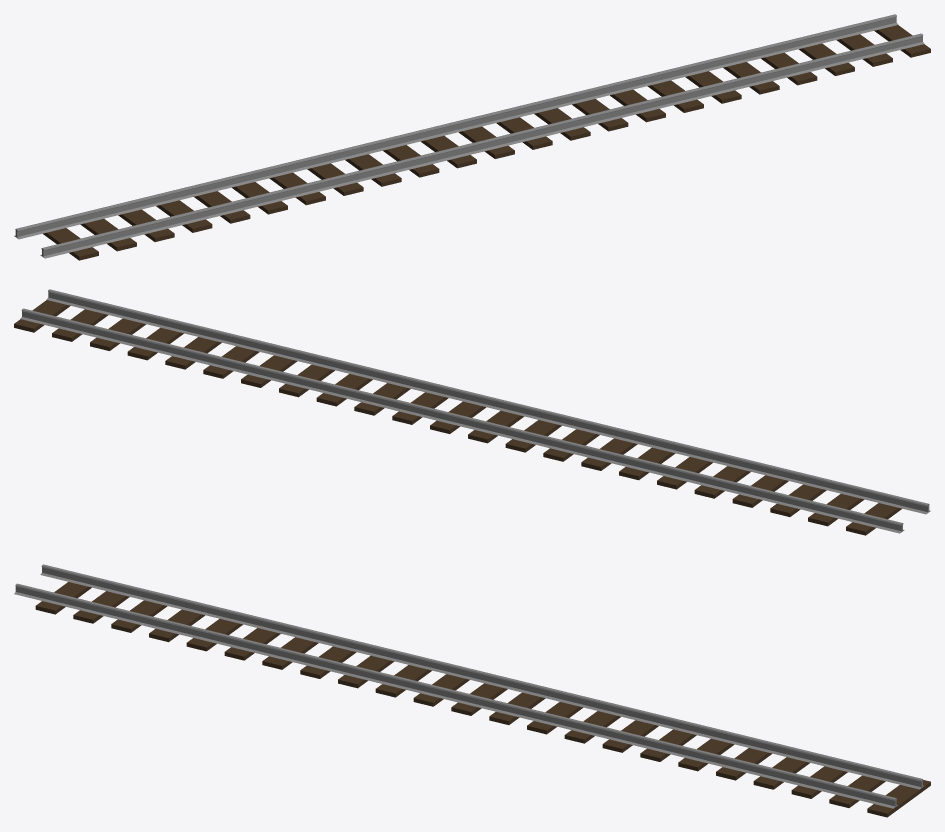
File: tory.fbx
3 views of the same model, one above another, from view 1: azimuth 30°, elevation 25°; view 2: azimuth 150°, elevation 25°; view 3: azimuth 330°, elevation 25° (orthographic).
Visible parts, largest first — view 1: Plane; view 2: Plane; view 3: Plane.
Boxes of the visible parts, x1,y1,x2,y2 form: Plane: [14, 14, 930, 260]; Plane: [14, 289, 930, 535]; Plane: [14, 564, 930, 817].
Bounding box in the file's own units: 2327 × 32.06 × 200.
